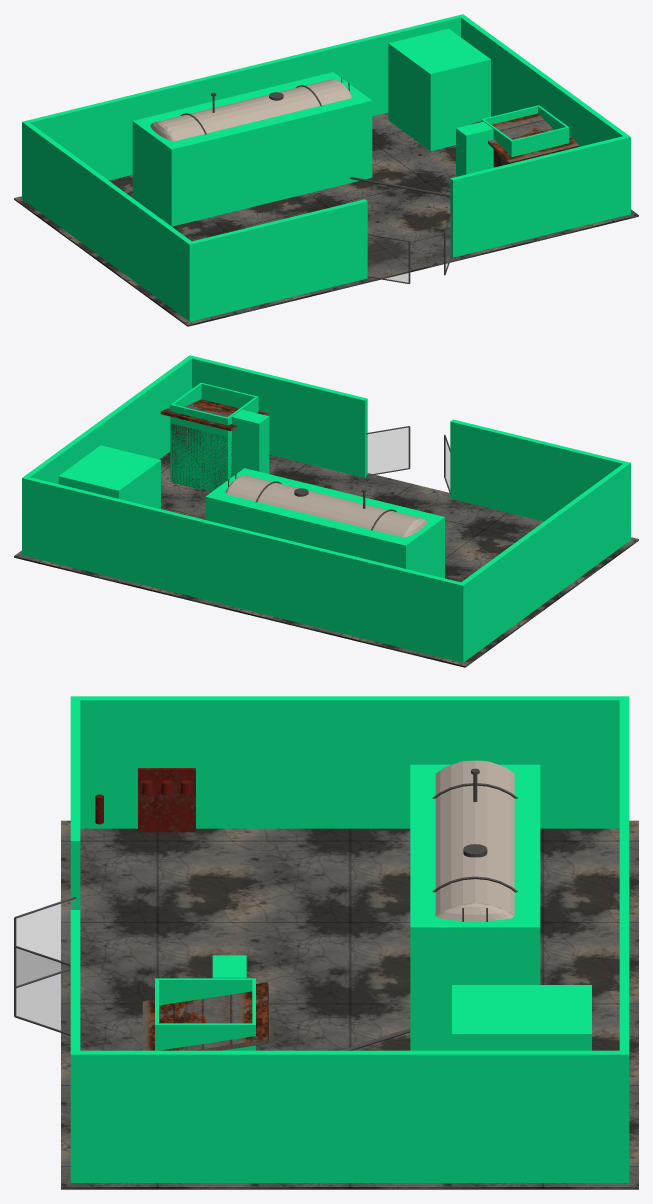
File: fuel_farm.glb
3 views of the same model, one above another, from view 1: azimuth 30°, elevation 25°; view 2: azimuth 150°, elevation 25°; view 3: azimuth 270°, elevation 25° (orthographic). The views are drawn at different scales.
Visible parts, largest first — view 1: COL_FF_Tank, FuelFarm_Pad, COL_FF_Fence_N, COL_FF_Fence_S1, COL_FF_Fence_S2, COL_FF_Fence_W, COL_FF_Drums, COL_FF_Fence_E, FuelFarm_Tank, FuelFarm_Fence, FuelFarm_Booth, COL_FF_Pump (+1 smaller); view 2: COL_FF_Fence_N, FuelFarm_Pad, COL_FF_Fence_W, COL_FF_Fence_S1, COL_FF_Fence_S2, COL_FF_Tank, COL_FF_Fence_E, FuelFarm_Tank, COL_FF_Drums, COL_booth_n0, FuelFarm_Booth, FuelFarm_Fence (+3 smaller); view 3: FuelFarm_Pad, COL_FF_Fence_E, COL_FF_Fence_W, COL_FF_Tank, FuelFarm_Tank, COL_FF_Drums, FuelFarm_Fence, COL_FF_Fence_N, FuelFarm_Booth, FuelFarm_Details, COL_FF_Fence_S2, COL_FF_Fence_S1 (+3 smaller).
Part boxes in pixels (x1,y1,x2,y2): COL_FF_Tank: (132, 72, 372, 226); FuelFarm_Pad: (14, 112, 638, 326); COL_FF_Fence_N: (22, 14, 465, 200); COL_FF_Fence_S1: (187, 199, 367, 321); COL_FF_Fence_S2: (450, 136, 625, 257); COL_FF_Fence_W: (22, 122, 194, 321); COL_FF_Drums: (388, 28, 490, 151); COL_FF_Fence_E: (461, 16, 630, 215); FuelFarm_Tank: (150, 77, 450, 196); FuelFarm_Fence: (367, 213, 451, 283); FuelFarm_Booth: (472, 106, 579, 166); COL_FF_Pump: (456, 121, 493, 176); COL_FF_Fence_N: (22, 476, 465, 662); FuelFarm_Pad: (14, 452, 638, 667); COL_FF_Fence_W: (458, 461, 630, 662); COL_FF_Fence_S1: (450, 419, 630, 541); COL_FF_Fence_S2: (192, 356, 367, 477); COL_FF_Tank: (205, 468, 444, 578); COL_FF_Fence_E: (22, 355, 194, 556); FuelFarm_Tank: (225, 473, 427, 537); COL_FF_Drums: (58, 445, 160, 508); COL_booth_n0: (170, 404, 229, 491); FuelFarm_Booth: (160, 399, 268, 491); FuelFarm_Fence: (366, 426, 450, 494); FuelFarm_Pad: (61, 820, 638, 1189); COL_FF_Fence_E: (70, 1050, 619, 1182); COL_FF_Fence_W: (70, 696, 619, 828); COL_FF_Tank: (410, 764, 540, 1050); FuelFarm_Tank: (339, 760, 518, 1050); COL_FF_Drums: (452, 985, 591, 1050); FuelFarm_Fence: (14, 896, 76, 1035); COL_FF_Fence_N: (619, 696, 629, 1182); FuelFarm_Booth: (142, 982, 268, 1050); FuelFarm_Details: (95, 768, 195, 832); COL_FF_Fence_S2: (70, 910, 80, 1182); COL_FF_Fence_S1: (70, 700, 80, 909).
Size of the model in its own units: 18 by 4.01 by 12.98.
Materials: 26 (8 with a texture image).
